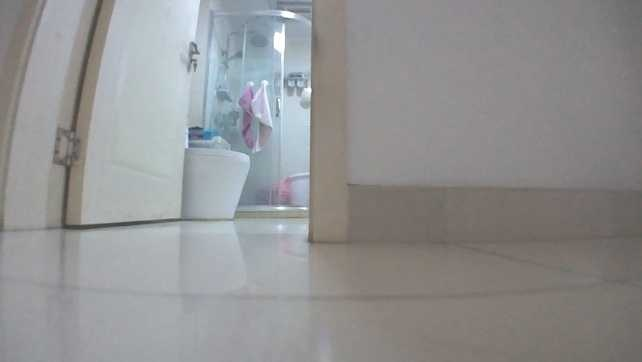door_anno: (0, 0, 205, 228)
toilet_part: (181, 146, 251, 220)
